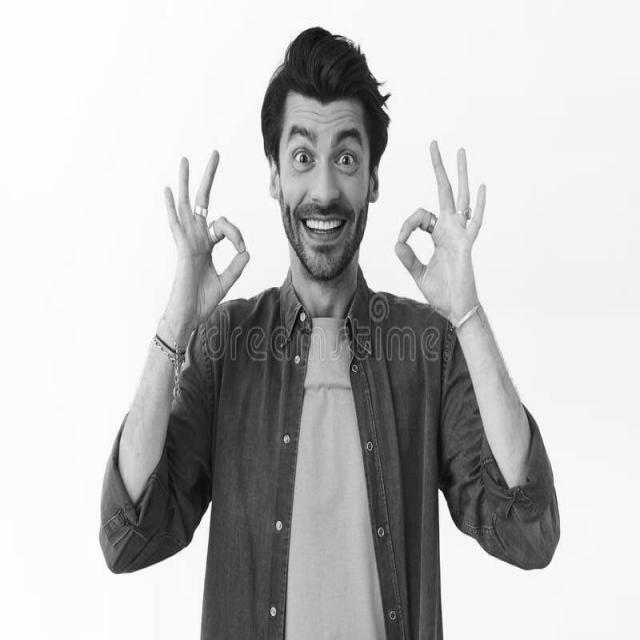perfect: (391, 132, 489, 338), (158, 142, 256, 340)
